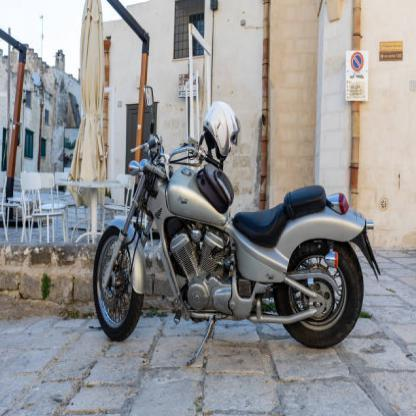Motorcycle: (81, 119, 384, 352)
